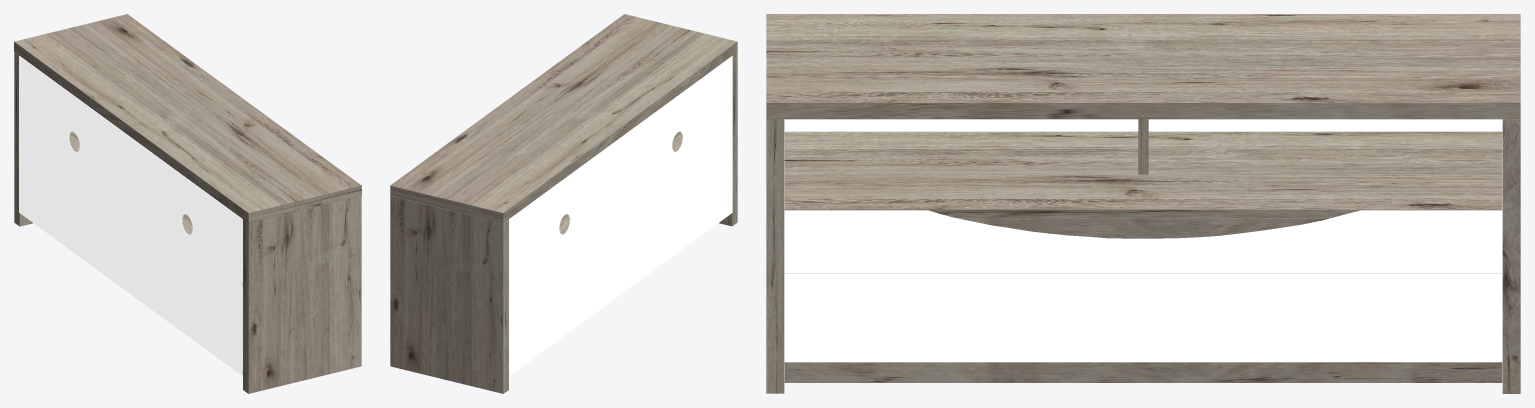
File: meuble_tv.glb
3 renders of one model, left to right at view 1: azimuth 30°, elevation 25°; view 2: azimuth 150°, elevation 25°; view 3: azimuth 270°, elevation 25°, orthographic. The views are drawn at different scales.
Parts seen in each view (by area): view 1: Cube.004_2, Cube.007_5; view 2: Cube.004_2, Cube.007_5; view 3: Cube.004_2, Plan_3, Cube.007_5.
Boxes of the visible parts, <box> form: Cube.004_2: <box>14,14,361,393</box>; Cube.007_5: <box>19,56,242,375</box>; Cube.004_2: <box>390,14,737,393</box>; Cube.007_5: <box>509,56,732,375</box>; Cube.004_2: <box>766,14,1520,393</box>; Plan_3: <box>784,210,1502,362</box>; Cube.007_5: <box>785,119,1502,281</box>.
Bounding box in the file's own units: 0.4127 × 0.6257 × 1.47.
Materials: 2 (1 with a texture image).
